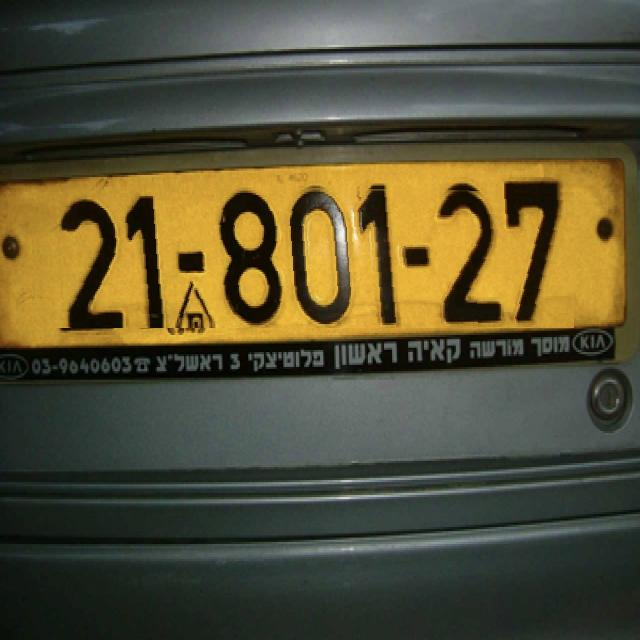licence: (31, 184, 574, 328)
